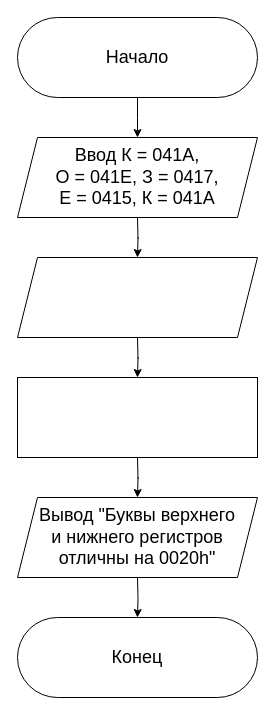
This 275x715 diagram has some shape labels left out. The shapes that lost their labels are listed below. From the top down, each one's centre as x and y in pixels, then its label:
At point 137,297: "Ввод К = 043A, О = 043E, З = 0437, Е = 0435, К = 043A".
At point 137,417: "К-к = 0020, О-о = 0020, З-з = 0020, Е-е = 0020, К-к = 0020".
